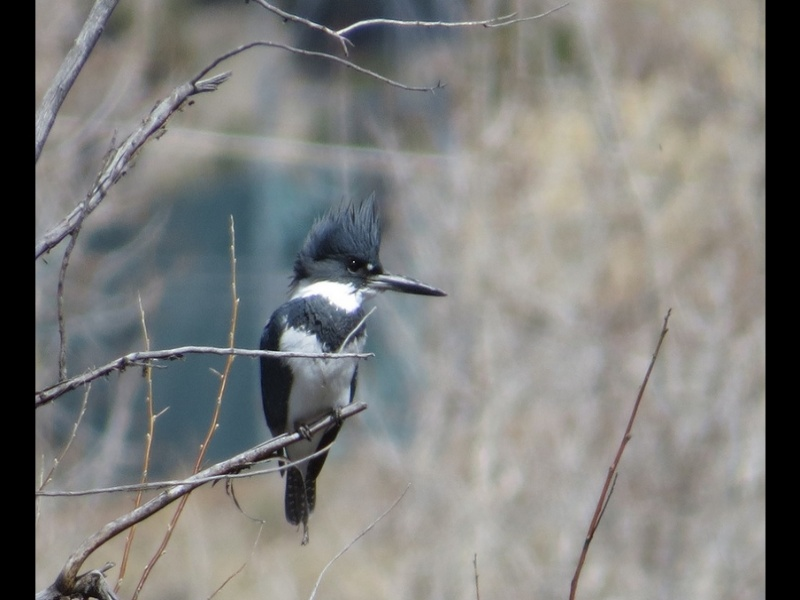kingfisher: (257, 190, 448, 549)
